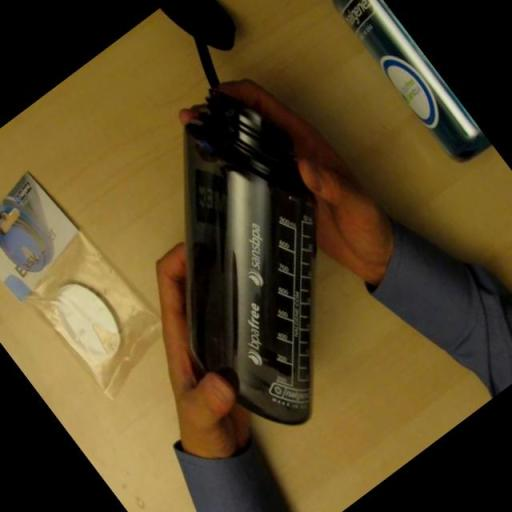bottle: (72, 69, 432, 452)
